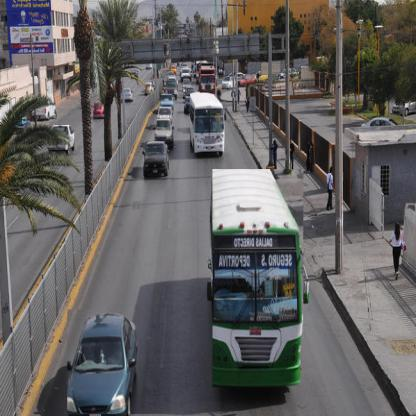bus: (213, 170, 304, 389), (191, 90, 228, 155)
car: (68, 310, 139, 416), (144, 140, 172, 178), (49, 126, 75, 152), (36, 98, 58, 121), (157, 120, 175, 143), (240, 75, 256, 89), (94, 103, 106, 121), (123, 89, 135, 104), (161, 96, 174, 109), (167, 82, 179, 96), (222, 78, 236, 89), (160, 107, 174, 117), (184, 78, 193, 88), (181, 69, 190, 79), (148, 85, 155, 97), (186, 101, 191, 117)
truck: (200, 66, 217, 96)
